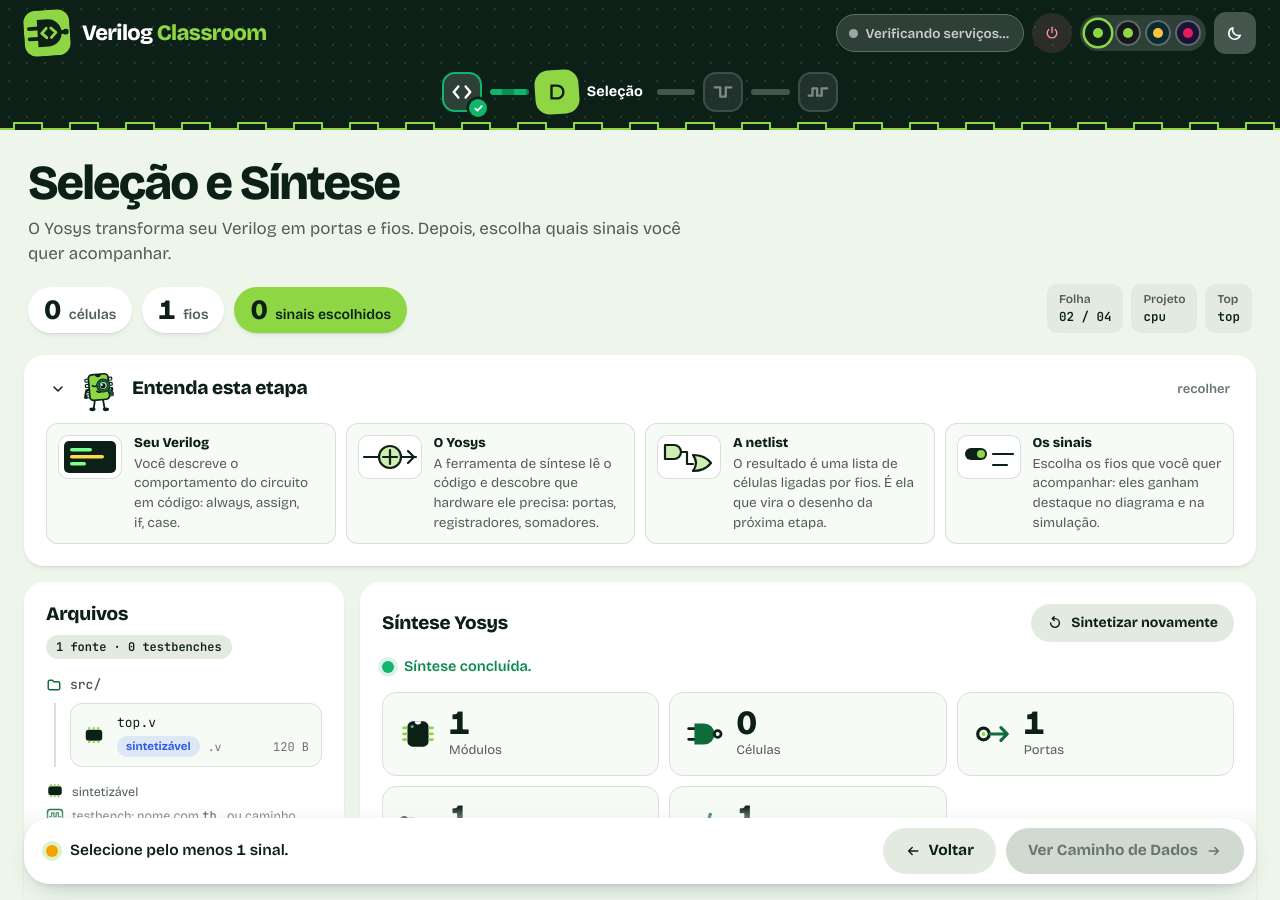
Test: Tela 2b — escolha explícita do top (#27) › top pedido fora dos candidatos não chega ao backend
Step 1. Click the button "Sintetizar novamente" → (1133, 623), box [1031,604,1234,642]
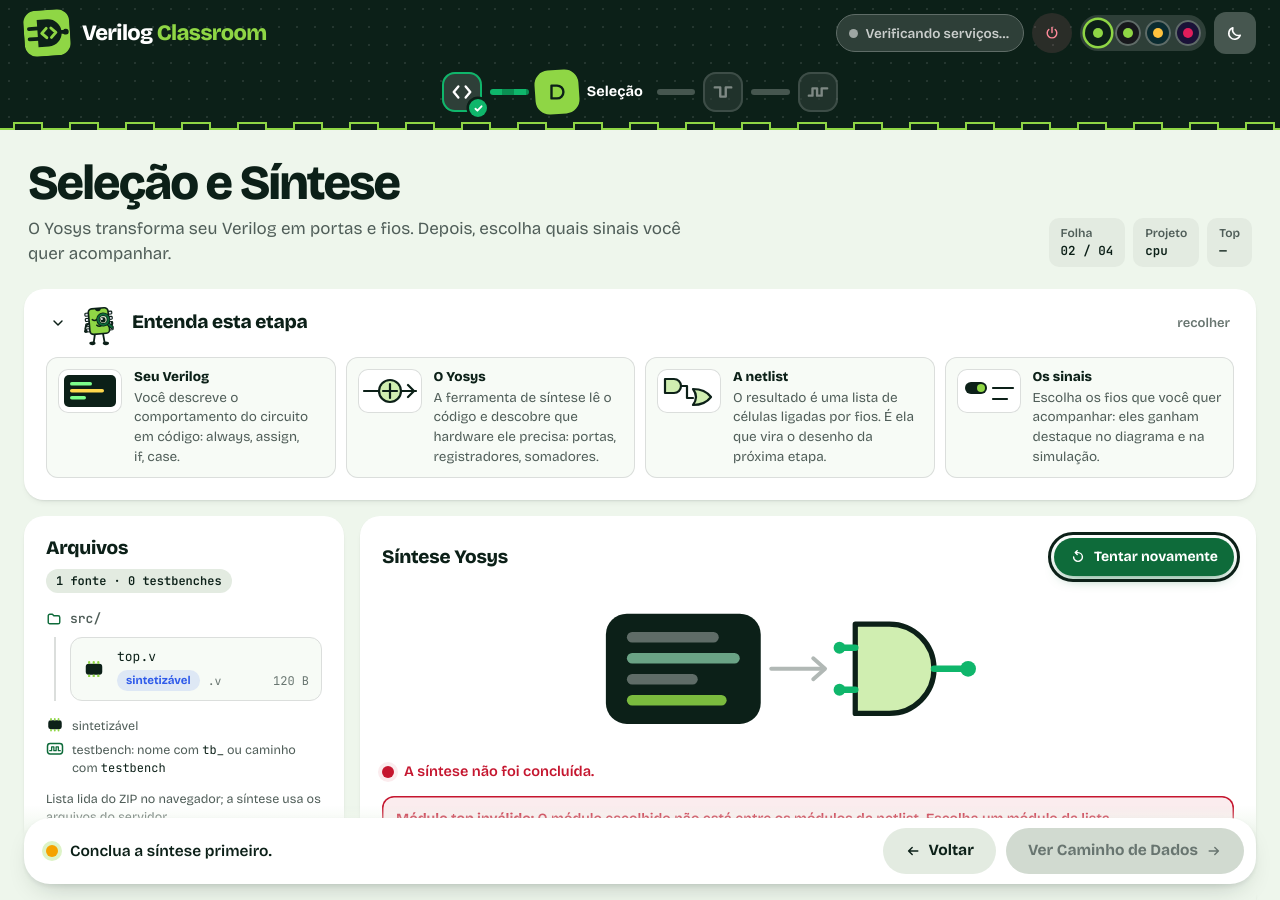
Check: the button "Ver Caminho de Dados" is disabled, box [1006,828,1244,874]
Check: the message that starts with "Módulo top inválido" shows "O módulo escolhido não está entre os módulos da netlist. Escolha um módulo da lista.", box [538,810,1113,827]
